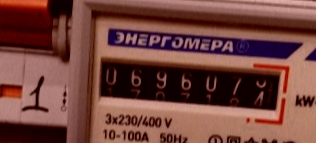0: (203, 71, 220, 94), (103, 64, 119, 87)
4: (252, 88, 267, 110)
6: (128, 66, 144, 88), (178, 70, 194, 91)
7: (228, 75, 245, 97)
9: (153, 68, 168, 90)
screen: (85, 46, 295, 123)
